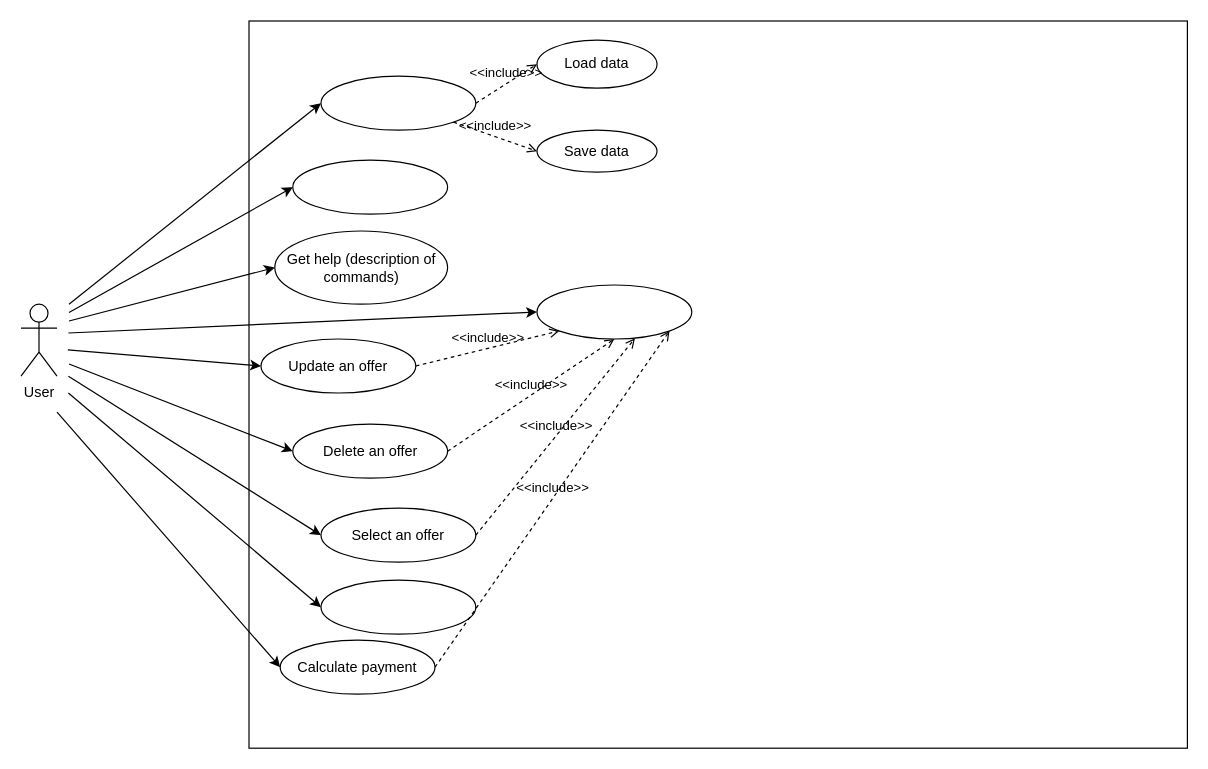
Some shapes in this 1208 by 769 pixel diagram are drawn without their labels. The shapes that lost their labels are listed below. From the top down, each one's centre as x and y in pixels, then its label:
(x=398, y=102): Work with files
(x=370, y=186): Create an offer
(x=614, y=311): Search for offers
(x=398, y=606): View selection
